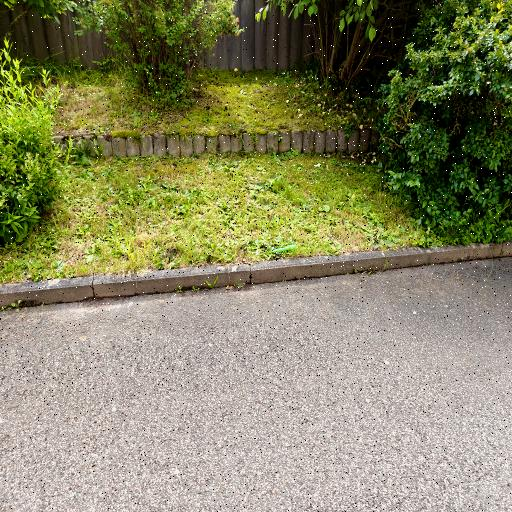Probe-Detection: (272, 244, 296, 253)
